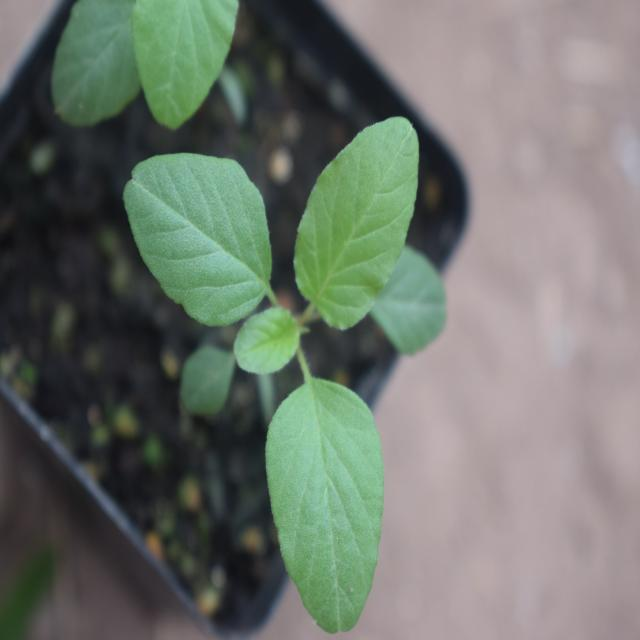pigweed: (123, 129, 448, 606)
